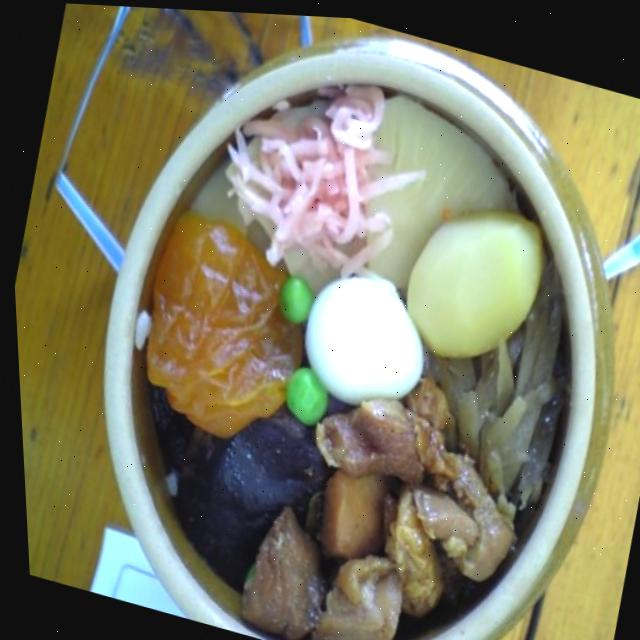汤锅炖物: (37, 2, 640, 640)
